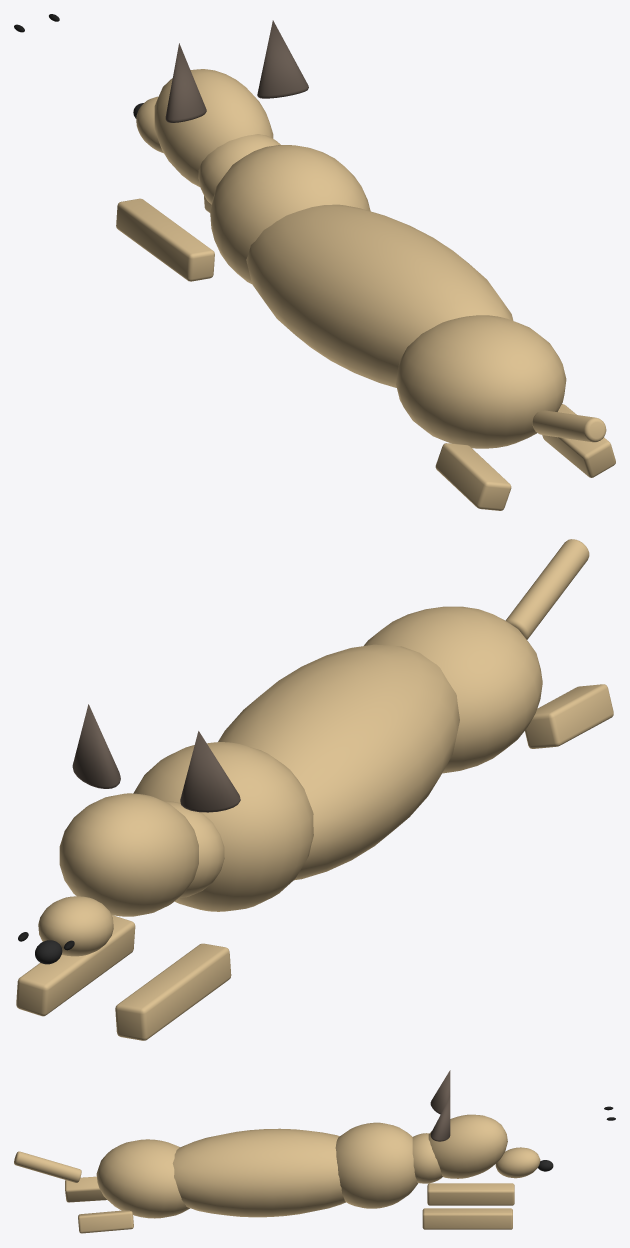
Rendered from GermanShepherdLying.glb.
3 renders of one model, top to bottom at view 1: azimuth 30°, elevation 25°; view 2: azimuth 150°, elevation 25°; view 3: azimuth 270°, elevation 25°, orthographic. The views are drawn at different scales.
Parts seen in each view (by area): view 1: GermanShepherdLying; view 2: GermanShepherdLying; view 3: GermanShepherdLying.
Part boxes in pixels (box(x1,y1,x2,y2)): GermanShepherdLying: box(116, 20, 615, 510); GermanShepherdLying: box(16, 539, 613, 1040); GermanShepherdLying: box(14, 1070, 553, 1233).
Bounding box in the file's own units: 0.6636 × 0.9155 × 3.73.
